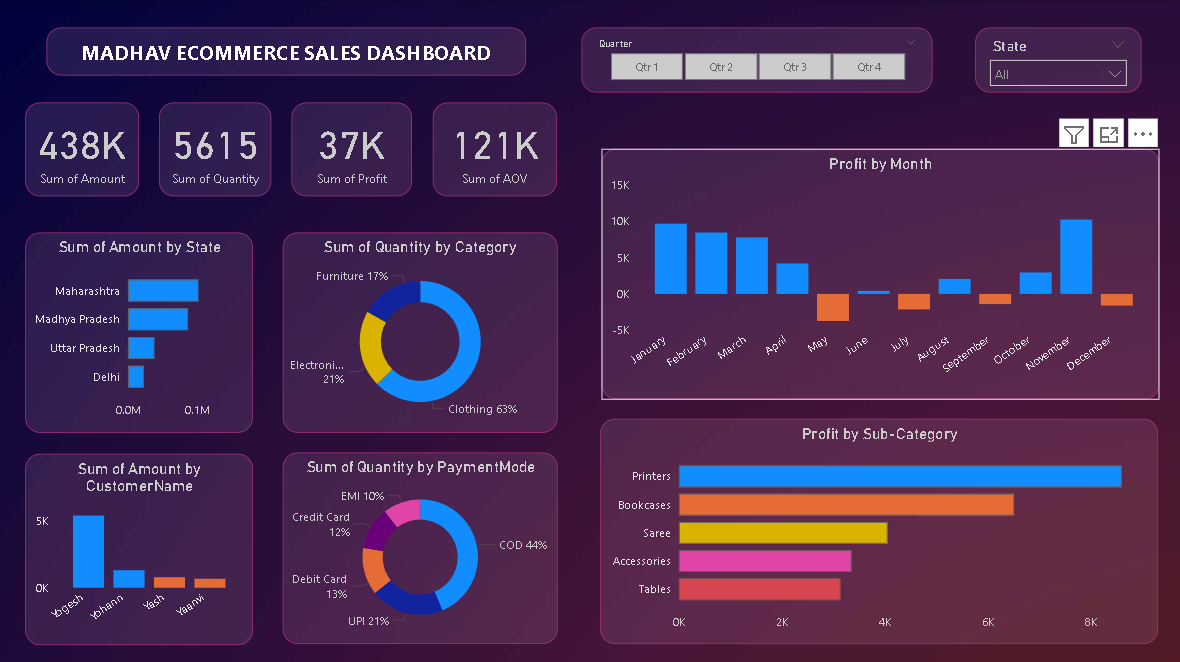

The dashboard page shown, as its layout file describes it:
{"tool":"powerbi","page":{"name":"Page 1","canvas":[1280,720],"ordinal":0},"visuals":[{"type":"columnChart","title":"Profit by Month","fields":{"Category":["Orders.Order Date.Variation.Date Hierarchy.Month"],"Y":["Sum(Details.Profit)"]},"box":[652.1,161.6,604.1,271.2],"z":0},{"type":"textbox","box":[52.1,30.1,519.2,52.1],"z":1000},{"type":"barChart","title":"Profit by Sub-Category","fields":{"Category":["Details.Sub-Category"],"Y":["Sum(Details.Profit)"]},"box":[651.4,452.9,604.3,244.3],"z":2000},{"type":"donutChart","fields":{"Category":["Details.Category"],"Y":["Sum(Details.Quantity)"]},"box":[306.8,252.1,297.3,216.4],"z":3000},{"type":"donutChart","fields":{"Y":["Sum(Details.Quantity)"],"Category":["Details.PaymentMode"]},"box":[306.8,490.4,297.3,206.8],"z":4000},{"type":"card","fields":{"Values":["Sum(Details.Amount)"]},"box":[28.8,111,123.3,101.4],"z":5000},{"type":"card","fields":{"Values":["Sum(Details.Quantity)"]},"box":[172.6,111,121.9,101.4],"z":6000},{"type":"card","fields":{"Values":["Sum(Details.Profit)"]},"box":[316.4,111,130.1,101.4],"z":7000},{"type":"card","fields":{"Values":["Sum(Details.AOV)"]},"box":[469.9,111,134.2,101.4],"z":8000},{"type":"barChart","title":"Sum of Amount by State","fields":{"Y":["Sum(Details.Amount)"],"Category":["Orders.State"]},"box":[28.8,252.1,246.6,216.4],"z":9000},{"type":"columnChart","fields":{"Category":["Orders.CustomerName"],"Y":["Sum(Details.Amount)"]},"box":[28.8,491.8,246.6,206.8],"z":10000},{"type":"slicer","fields":{"Values":["Orders.Order Date.Variation.Date Hierarchy.Quarter"]},"box":[630.7,29.8,380.3,70.4],"z":11000},{"type":"slicer","fields":{"Values":["Orders.State"]},"box":[1057,29.8,180,70.4],"z":12000}]}

Visuals, with their boxes in screenshot pixels (x1, y1, x2, y2), scaled from the page's 1280x720 canvas onto the 1180x662 screenshot:
"Profit by Month" columnChart: [601,149,1158,398]
textbox: [48,28,527,76]
"Profit by Sub-Category" barChart: [601,416,1158,641]
donutChart - Details.Category x Sum(Details.Quantity): [283,232,557,431]
donutChart - Sum(Details.Quantity) x Details.PaymentMode: [283,451,557,641]
card - Sum(Details.Amount): [27,102,140,195]
card - Sum(Details.Quantity): [159,102,271,195]
card - Sum(Details.Profit): [292,102,412,195]
card - Sum(Details.AOV): [433,102,557,195]
"Sum of Amount by State" barChart: [27,232,254,431]
columnChart - Orders.CustomerName x Sum(Details.Amount): [27,452,254,642]
slicer - Orders.Order Date.Variation.Date Hierarchy.Quarter: [581,27,932,92]
slicer - Orders.State: [974,27,1140,92]
